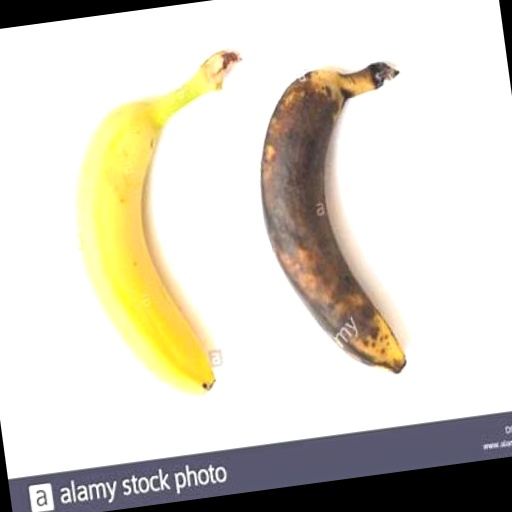fruit: (75, 52, 239, 394), (261, 63, 406, 372)
